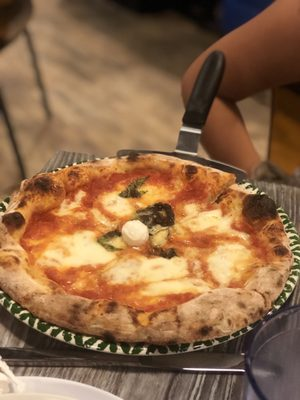sandwich: (174, 54, 225, 157)
